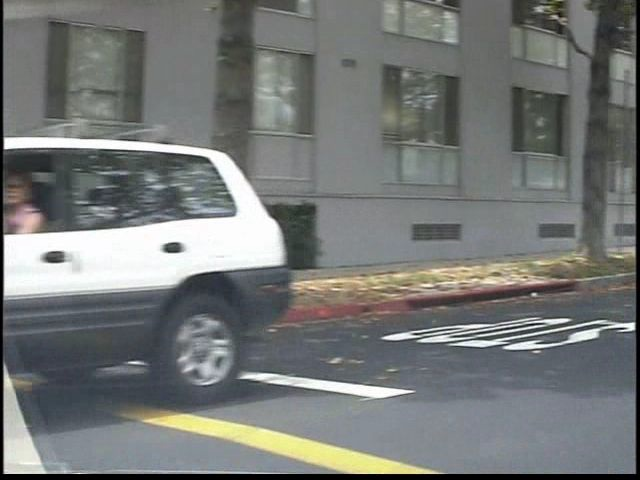person: (24, 162, 96, 413)
